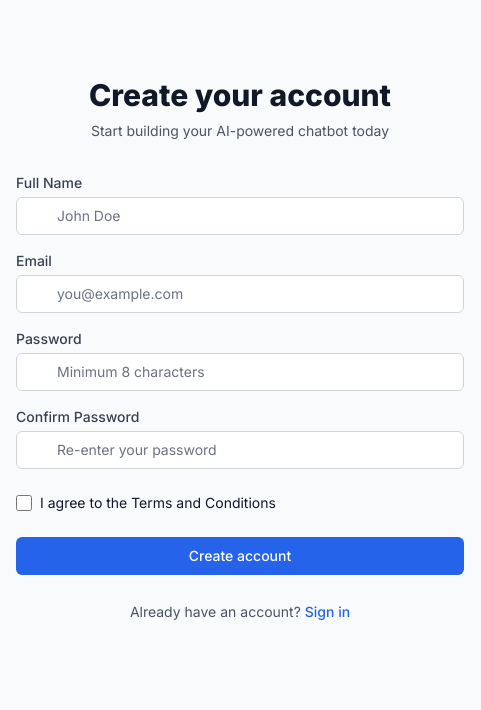
SignupPage › displays validation errors for empty fields
Click the button "Create account".
click(240, 556)  # box [16, 537, 464, 575]
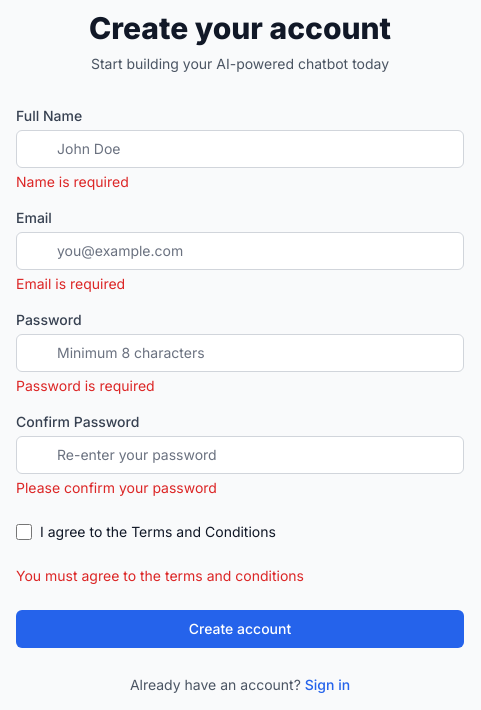
Check: the text "Name is required" is shown, box [16, 173, 129, 190]
Check: the text "Email is required" is shown, box [16, 275, 125, 292]
Check: the text "Password is required" is shown, box [16, 377, 155, 394]
